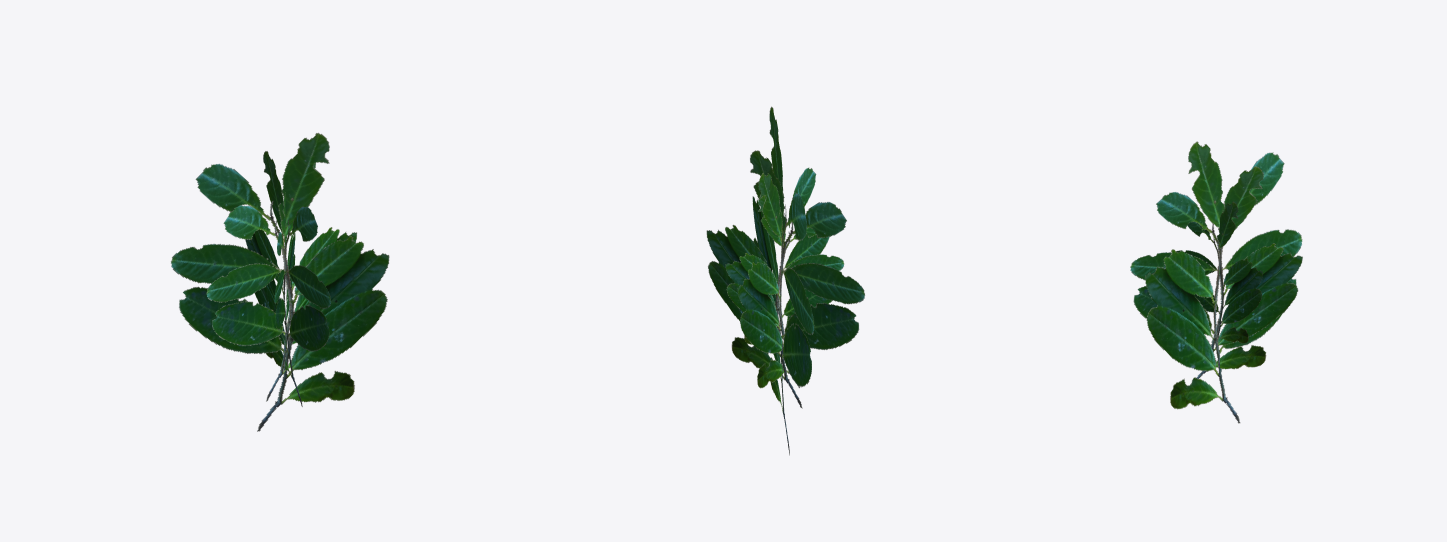
File: fol1_edit.glb
3 views of the same model, side by side, from view 1: azimuth 30°, elevation 25°; view 2: azimuth 150°, elevation 25°; view 3: azimuth 270°, elevation 25° (orthographic). The views are drawn at different scales.
Visible parts, largest first — view 1: Plane.003; view 2: Plane.003; view 3: Plane.003.
Boxes of the visible parts, left/top/right/bottom form: Plane.003: left=171, top=132, right=389, bottom=431; Plane.003: left=706, top=106, right=864, bottom=455; Plane.003: left=1130, top=141, right=1302, bottom=423.
Bounding box in the file's own units: 2.82 × 3.66 × 2.83.
1 material, 1 textured.
